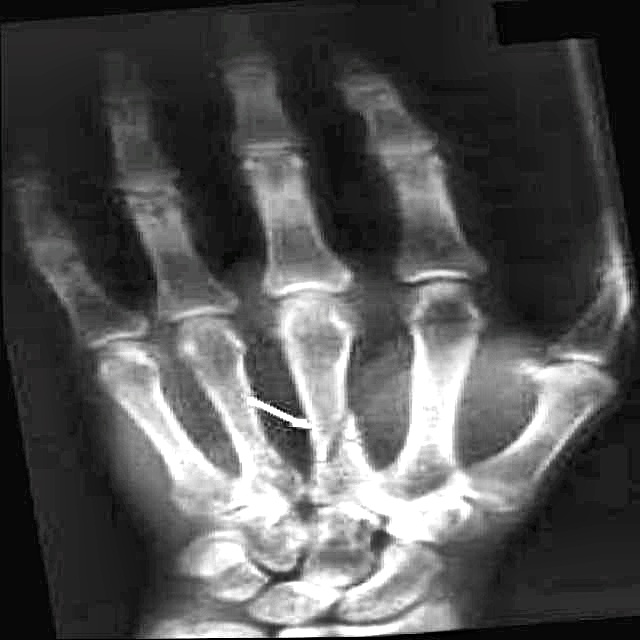Oblique Displaced: (294, 395, 377, 489)
